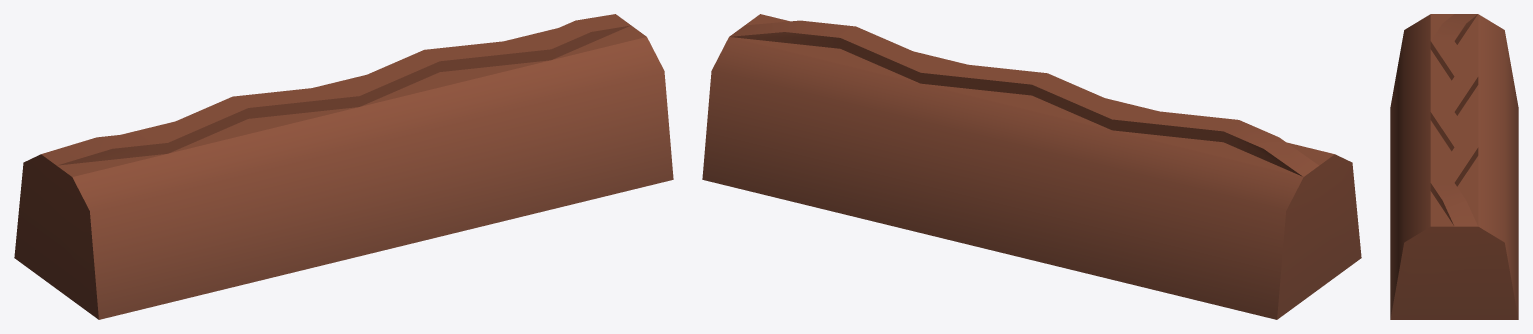
The model's file is candy-bar.glb.
The picture shows the model from 3 angles, left to right: view 1: azimuth 30°, elevation 25°; view 2: azimuth 150°, elevation 25°; view 3: azimuth 270°, elevation 25°; orthographic projection. The views are drawn at different scales.
Parts seen in each view (by area): view 1: candy-bar; view 2: candy-bar; view 3: candy-bar.
Part boxes in pixels (x1,y1,x2,y2): candy-bar: (14,14,673,319); candy-bar: (702,14,1361,319); candy-bar: (1390,14,1518,319).
Bounding box in the file's own units: 0.2924 × 0.0653 × 0.0745.
